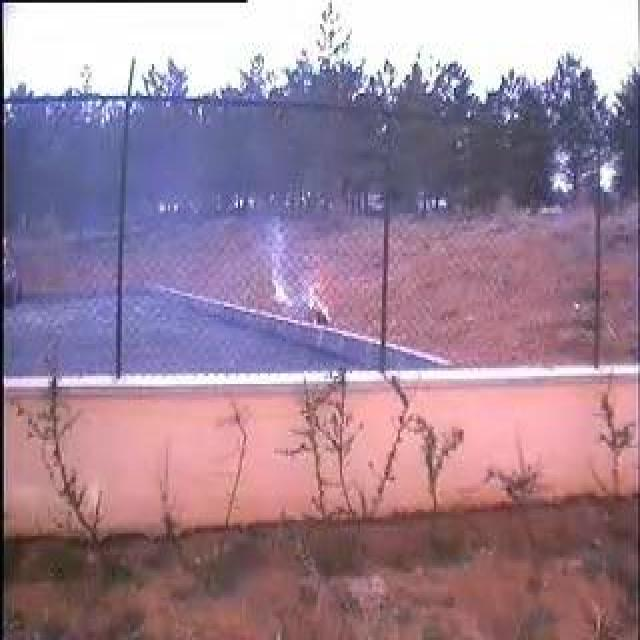Smoke: (131, 184, 313, 365)
